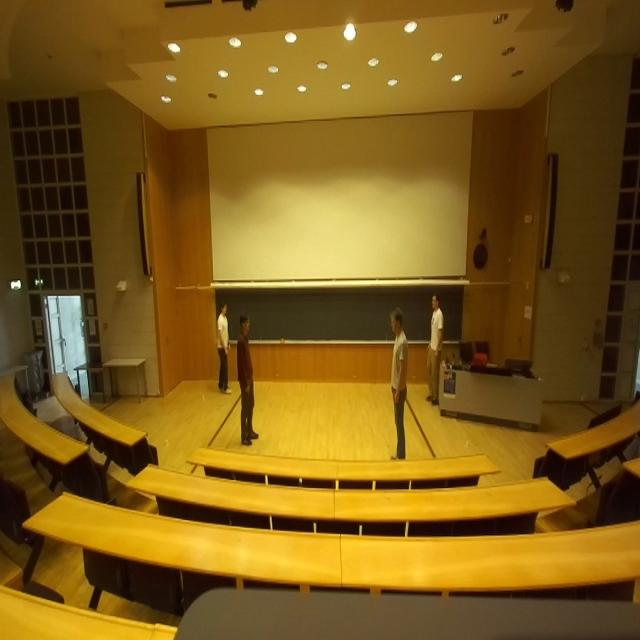person: (236, 313, 258, 445), (390, 306, 408, 458), (426, 294, 444, 404), (216, 301, 232, 394)
